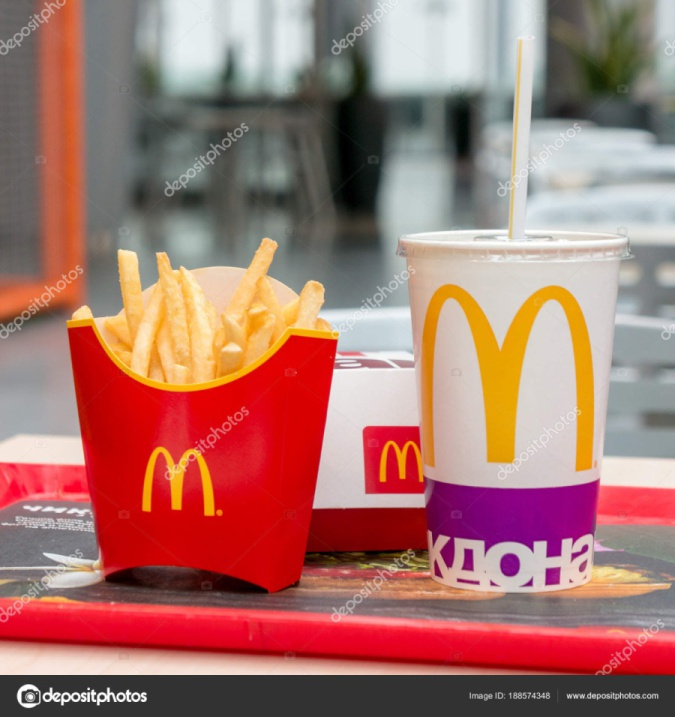mcdonalds: (413, 282, 596, 477), (136, 444, 217, 530)
